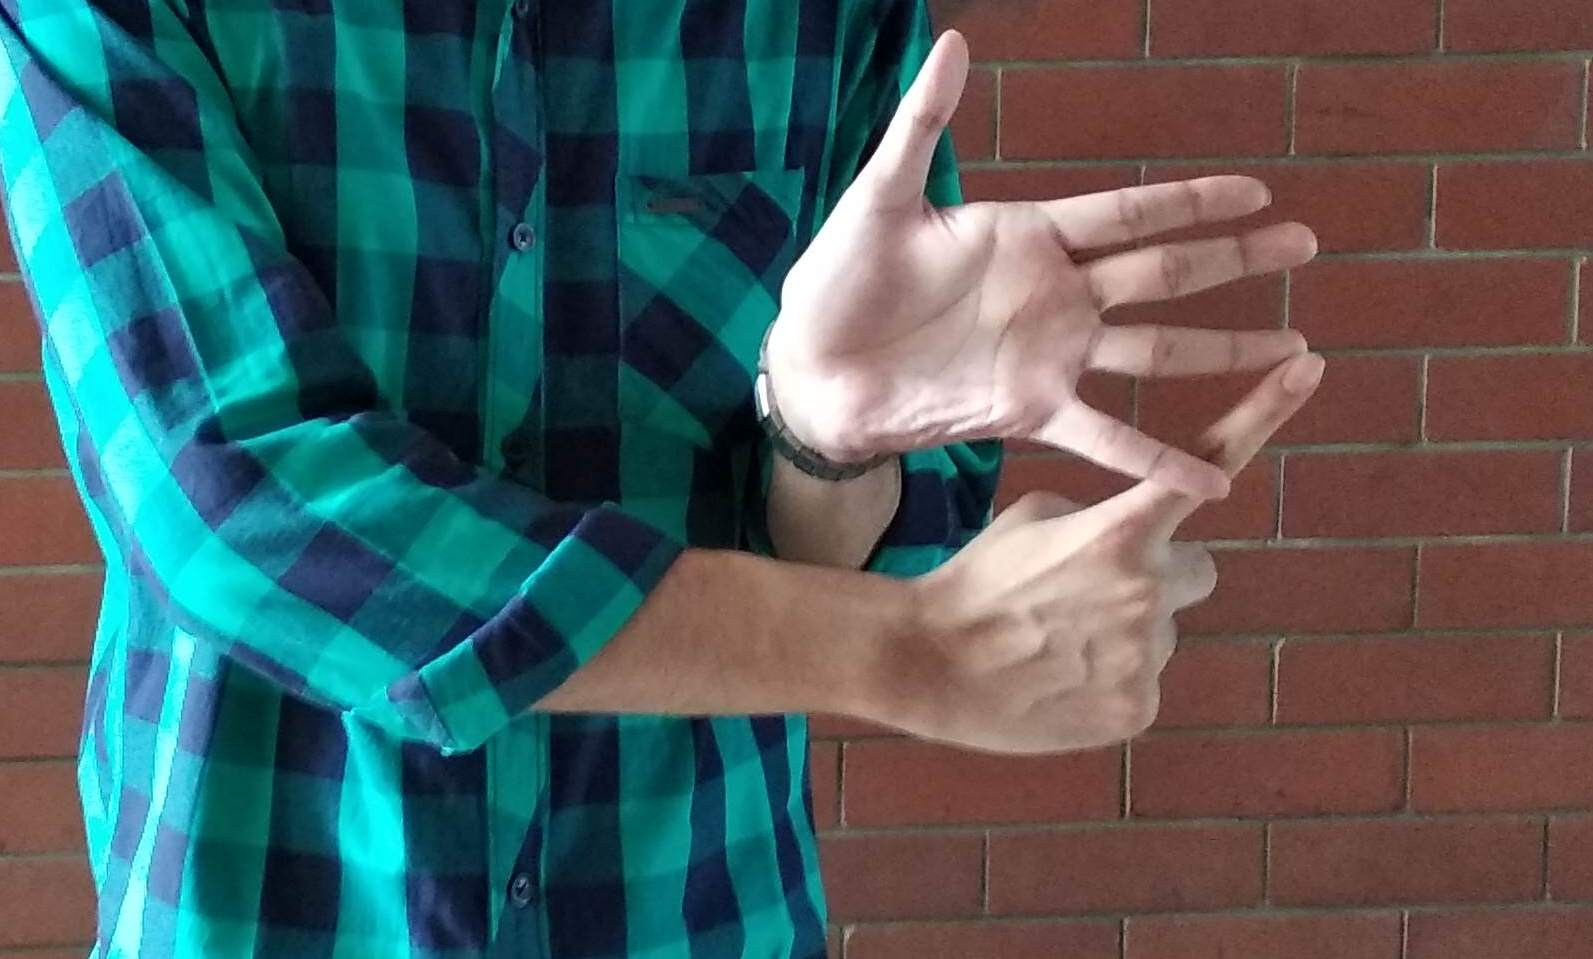e: (845, 75, 1322, 703)
